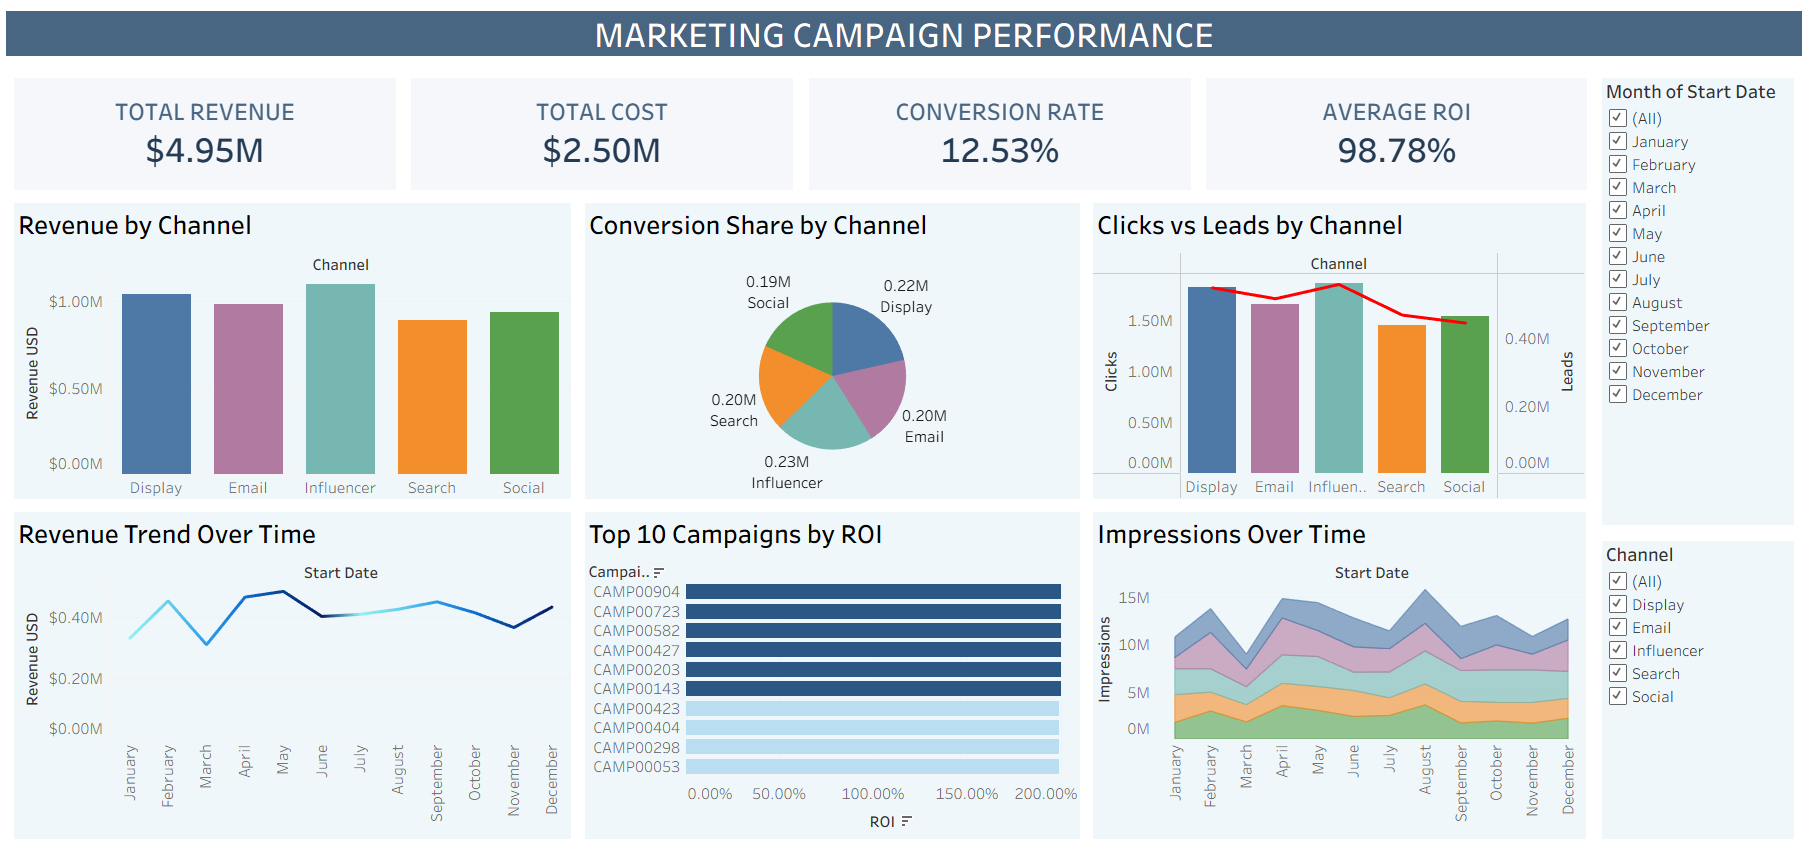

Layout of this report page (visuals, bound fields, positions):
{"tool":"tableau","page":{"name":"Dashboard 1","canvas":[1000,1000],"units":"permille","ordinal":0},"visuals":[{"type":"title","box":[4.8,10,990.3,66.2]},{"type":"worksheet","title":"TOTAL REVENUE","mark":"Automatic","box":[10.9,92.4,209.8,129.8]},{"type":"worksheet","title":"TOTAL COST","mark":"Automatic","box":[229.1,92.4,209.8,129.8]},{"type":"worksheet","title":"CONVERSION RATE","mark":"Automatic","box":[448,92.4,209.8,129.8]},{"type":"worksheet","title":"AVERAGE ROI","mark":"Automatic","box":[665.7,92.4,209.8,129.8]},{"type":"filter","title":"CONVERSION SHARE BY CHANNEL","param":"[federated.0uuxm9v129v93v1f7nprm18pmh93].[mn:StartDate:ok]","box":[883.3,92.4,105.8,519.4]},{"type":"worksheet","title":"REVENUE BY CHANNEL","mark":"Automatic","rows":["Revenue_USD"],"cols":["Channel"],"box":[10.9,237.2,305.9,344.6]},{"type":"worksheet","title":"CONVERSION SHARE BY CHANNEL","mark":"Pie","box":[324.7,237.2,272.1,344.6]},{"type":"worksheet","title":"CLICKS VS LEADS BY CHANNEL","mark":"Line","rows":["Clicks","Leads"],"cols":["Channel"],"box":[604,237.2,270.9,344.6]},{"type":"worksheet","title":"REVENUE TREND OVER TIME","mark":"Line","rows":["Revenue_USD"],"cols":["StartDate"],"box":[10.9,596.8,305.9,380.8]},{"type":"worksheet","title":"TOP 10 CAMPAIGNS BY ROI","mark":"Bar","rows":["CampaignID"],"cols":["ROI"],"box":[324.7,596.8,272.1,380.8]},{"type":"worksheet","title":"IMPRESSIONS OVER TIME","mark":"Area","rows":["Impressions"],"cols":["StartDate"],"box":[604,596.8,270.9,380.8]},{"type":"filter","title":"CONVERSION SHARE BY CHANNEL","param":"[federated.0uuxm9v129v93v1f7nprm18pmh93].[none:Channel:nk]","box":[883.3,630.5,105.8,347.1]}]}

Visuals, with their boxes on the dashboard's canvas, which has no fixed pixel size, in thousandths of its width and height (x1, y1, x2, y2). These are canvas units, not pixel positions in the 1806x852 screenshot, which may show the page scaled, cropped or inside an application window:
title: {"x1": 5, "y1": 10, "x2": 995, "y2": 76}
"TOTAL REVENUE" worksheet: {"x1": 11, "y1": 92, "x2": 221, "y2": 222}
"TOTAL COST" worksheet: {"x1": 229, "y1": 92, "x2": 439, "y2": 222}
"CONVERSION RATE" worksheet: {"x1": 448, "y1": 92, "x2": 658, "y2": 222}
"AVERAGE ROI" worksheet: {"x1": 666, "y1": 92, "x2": 876, "y2": 222}
"CONVERSION SHARE BY CHANNEL" filter: {"x1": 883, "y1": 92, "x2": 989, "y2": 612}
"REVENUE BY CHANNEL" worksheet: {"x1": 11, "y1": 237, "x2": 317, "y2": 582}
"CONVERSION SHARE BY CHANNEL" worksheet (Pie marks): {"x1": 325, "y1": 237, "x2": 597, "y2": 582}
"CLICKS VS LEADS BY CHANNEL" worksheet (Line marks): {"x1": 604, "y1": 237, "x2": 875, "y2": 582}
"REVENUE TREND OVER TIME" worksheet (Line marks): {"x1": 11, "y1": 597, "x2": 317, "y2": 978}
"TOP 10 CAMPAIGNS BY ROI" worksheet (Bar marks): {"x1": 325, "y1": 597, "x2": 597, "y2": 978}
"IMPRESSIONS OVER TIME" worksheet (Area marks): {"x1": 604, "y1": 597, "x2": 875, "y2": 978}
"CONVERSION SHARE BY CHANNEL" filter: {"x1": 883, "y1": 630, "x2": 989, "y2": 978}
